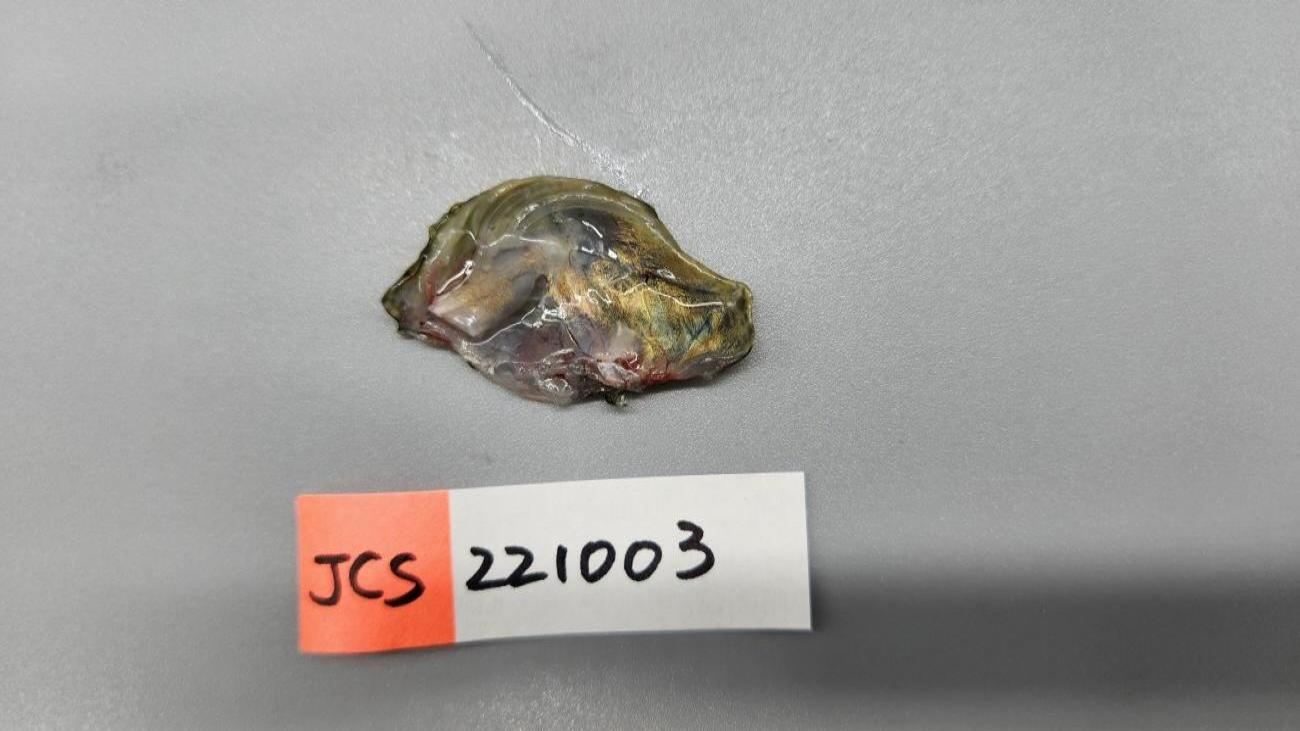POGCN: (379, 178, 753, 411)
